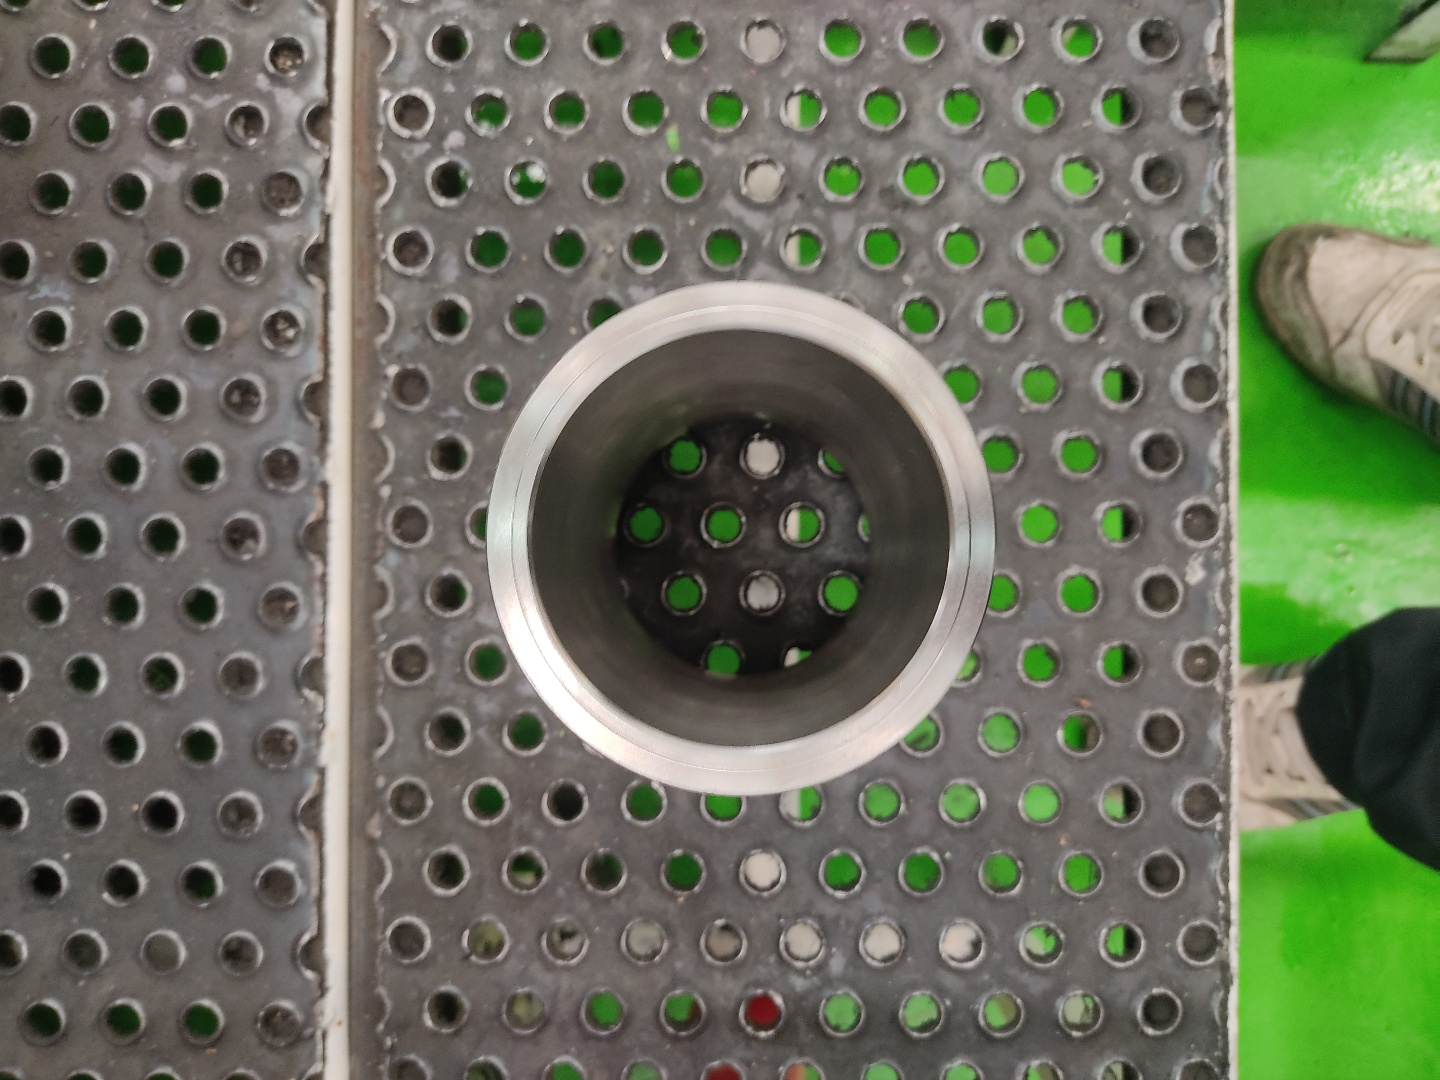cylinder: (482, 278, 1000, 798)
